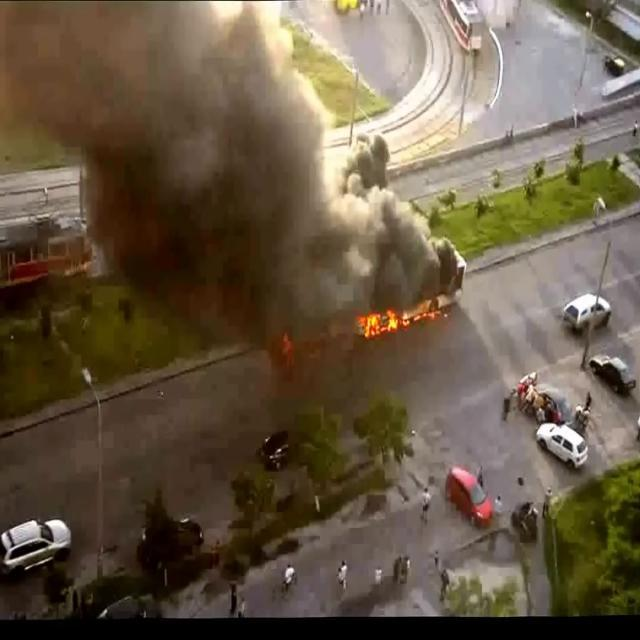Fire: (356, 290, 446, 336)
Smoke: (1, 0, 439, 306)
